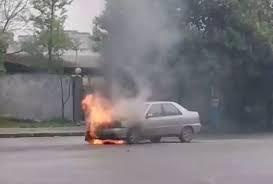fire: (78, 88, 127, 146)
